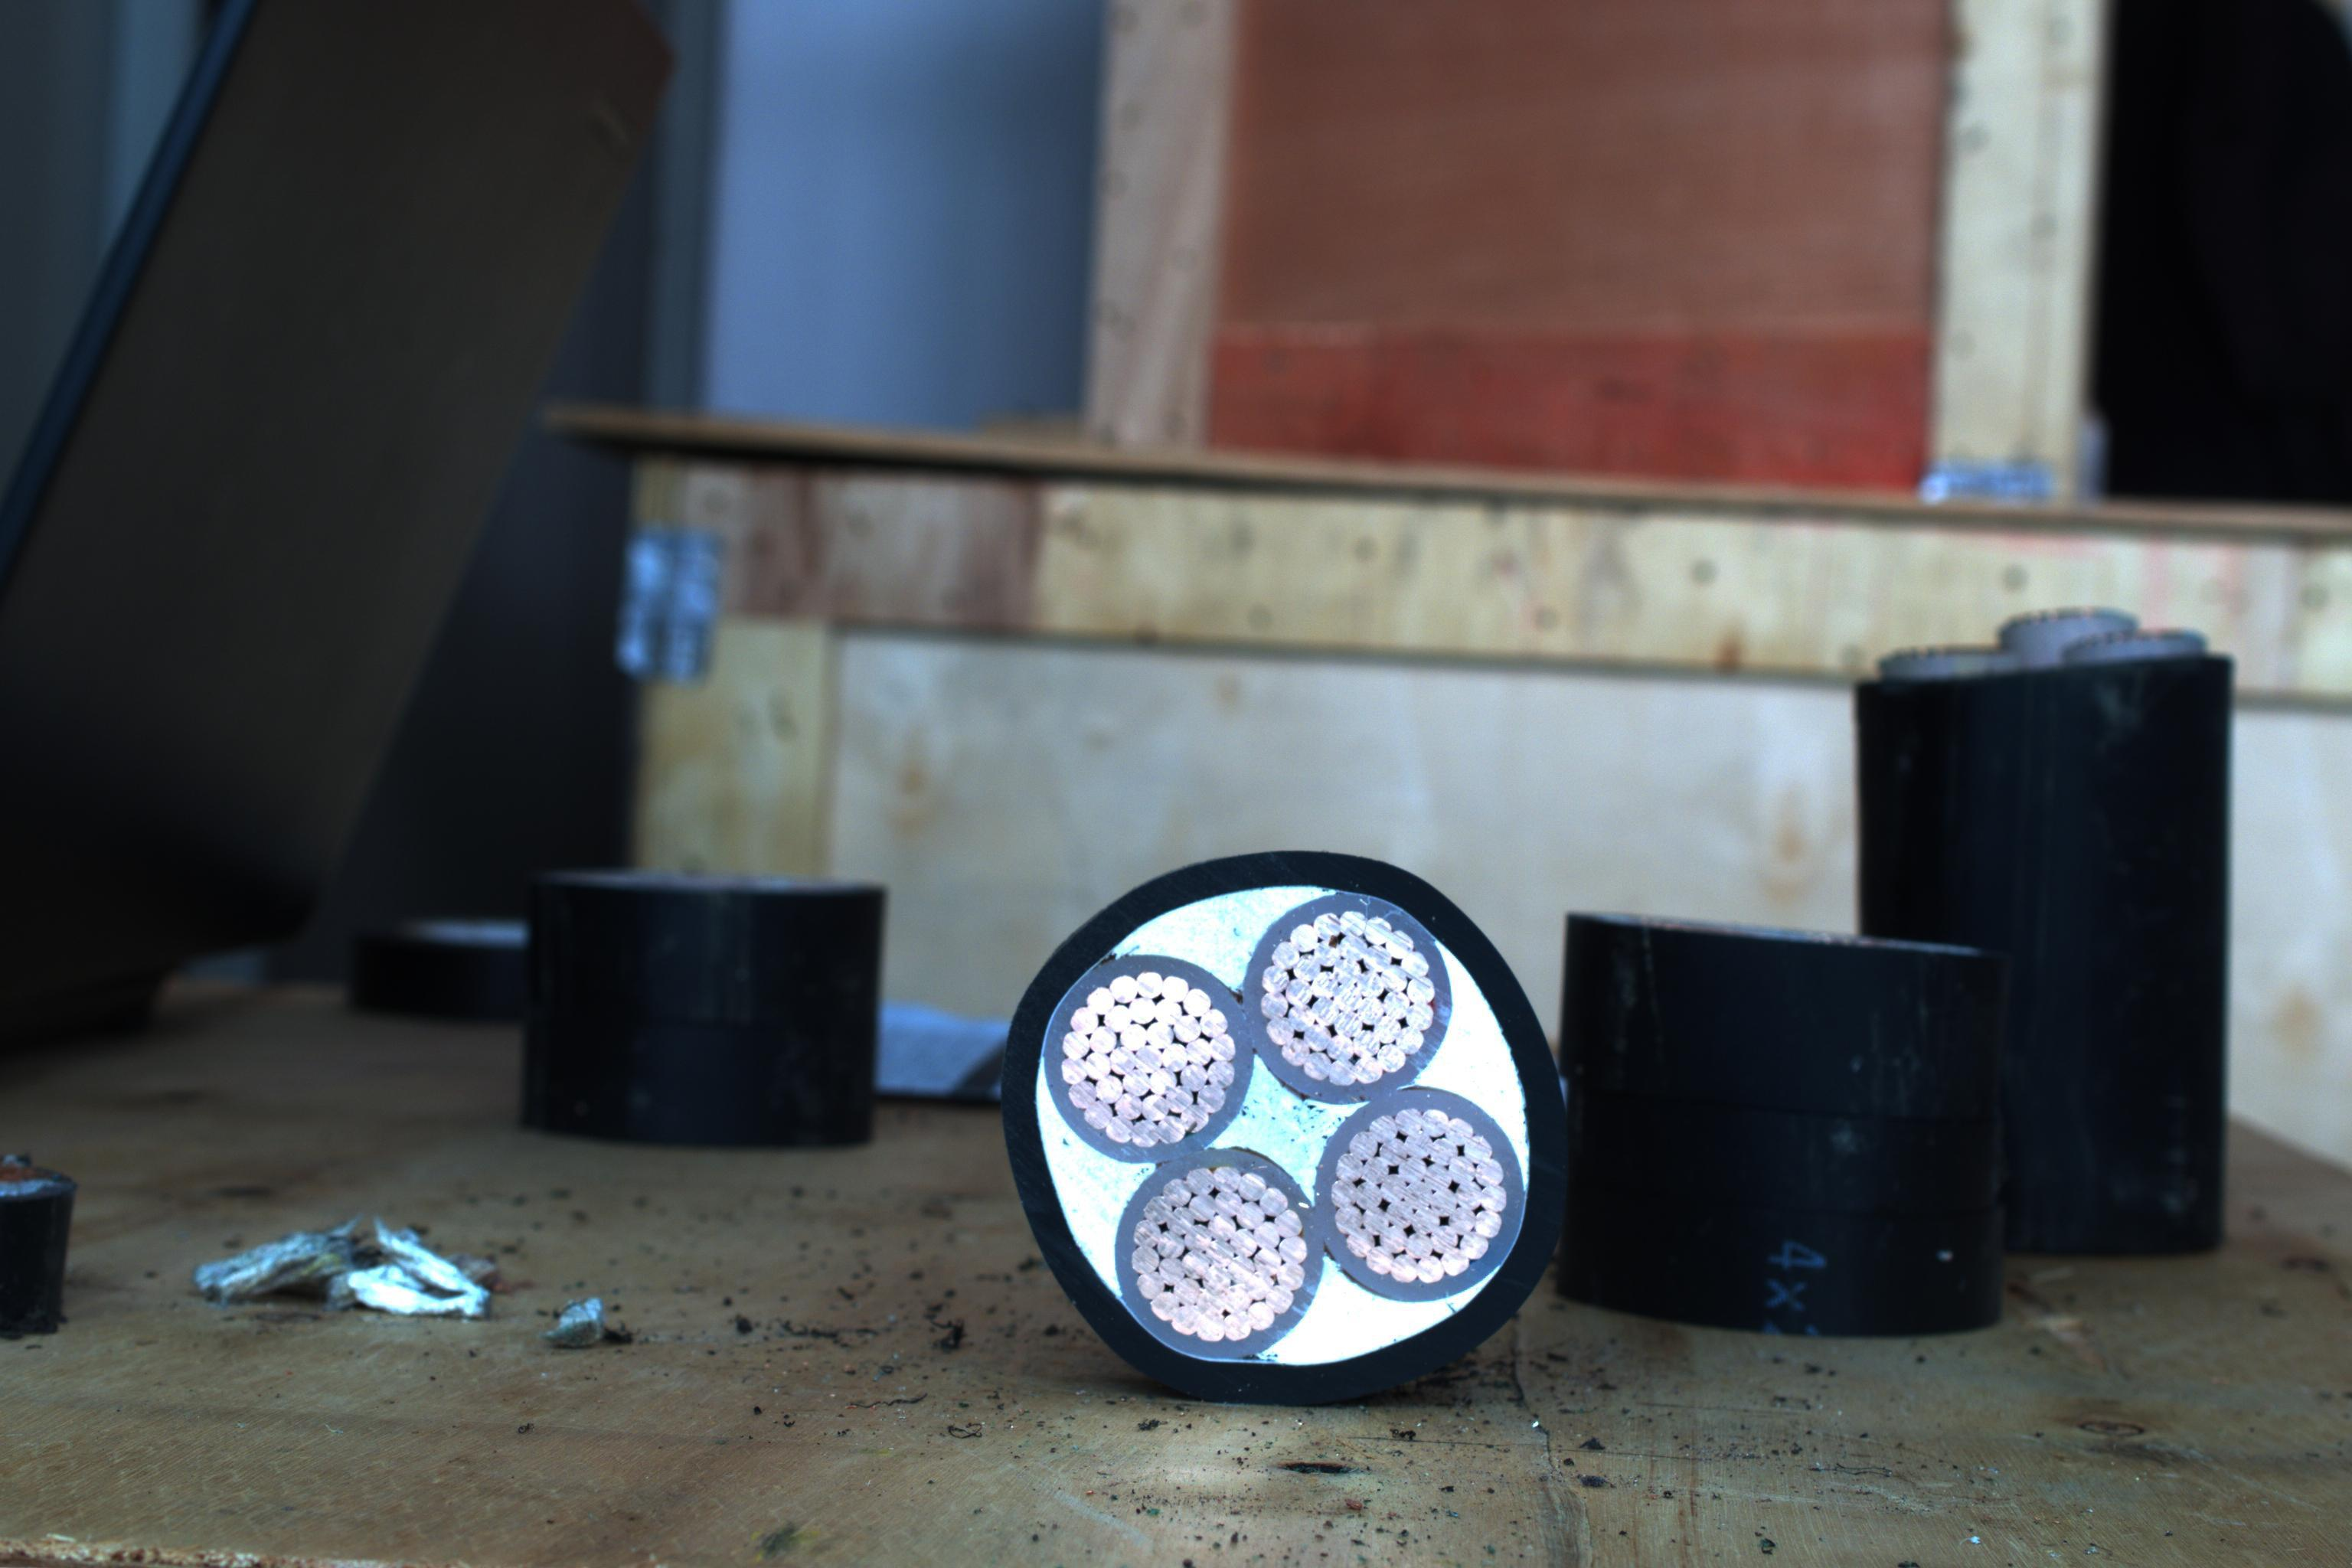YJV_0.6_1kV_4x240: (973, 859, 1561, 1363)
